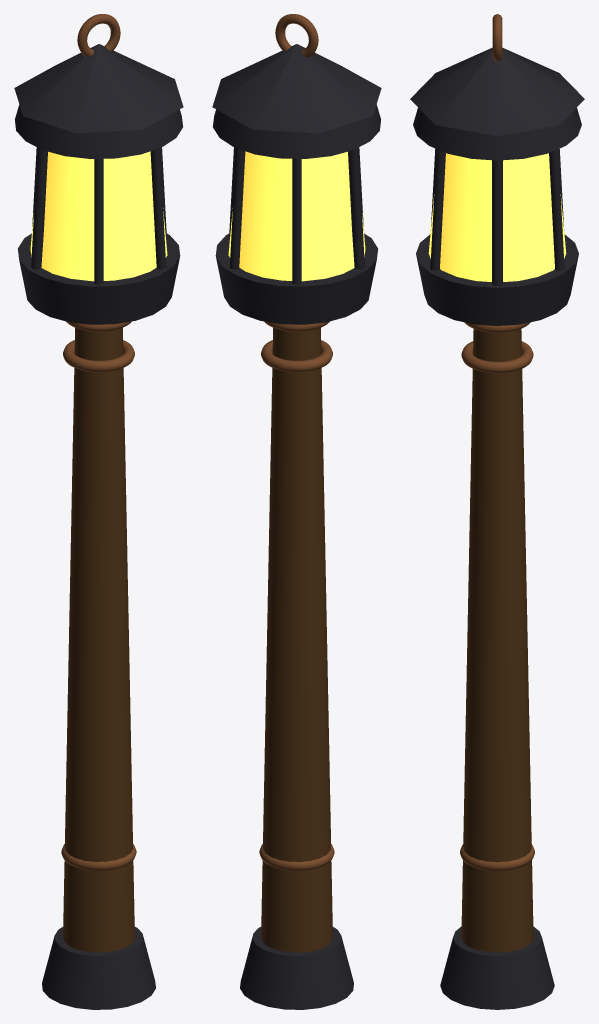
Rendered from mia-lantern.glb.
The picture shows the model from 3 angles, left to right: view 1: azimuth 30°, elevation 25°; view 2: azimuth 150°, elevation 25°; view 3: azimuth 270°, elevation 25°; orthographic projection.
Parts seen in each view (by area): view 1: Body_wood, Body_iron, Body_amber, Body_rust; view 2: Body_wood, Body_iron, Body_amber, Body_rust; view 3: Body_wood, Body_iron, Body_amber, Body_rust.
Part boxes in pixels (box(x1,y1,x2,y2)): Body_wood: box(63, 327, 134, 952); Body_iron: box(14, 44, 183, 1009); Body_amber: box(30, 151, 167, 281); Body_rust: box(61, 14, 136, 870); Body_wood: box(261, 327, 332, 952); Body_iron: box(212, 44, 381, 1009); Body_amber: box(228, 151, 365, 281); Body_rust: box(259, 14, 334, 870); Body_wood: box(461, 329, 533, 952); Body_iron: box(410, 47, 584, 1009); Body_amber: box(428, 153, 566, 281); Body_rust: box(460, 14, 534, 870).
Bounding box in the file's own units: 0.354 × 2.17 × 0.354.
